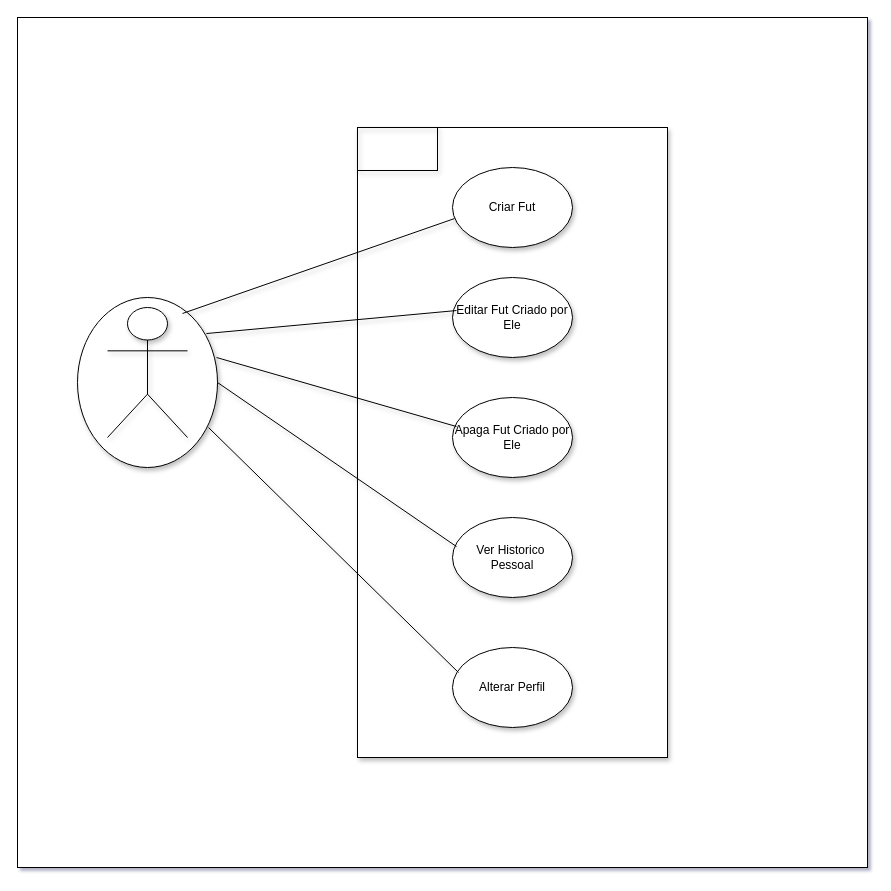
Some shapes in this 891 by 891 pixel diagram are drawn without their labels. The centre of each missing label's shape, as x and y in pixels:
"Ações Inicial Peladeiro" goes at pixel 398 150.
"Peladeiro" goes at pixel 148 373.
